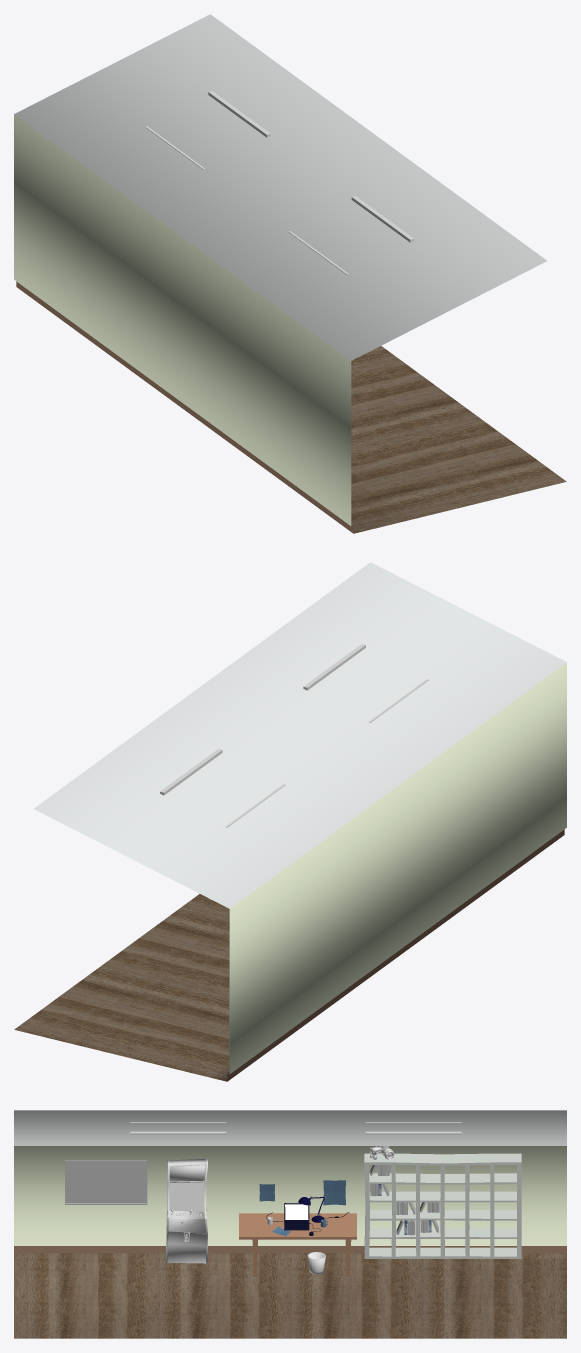
File: MENU.fbx
3 renders of one model, top to bottom at view 1: azimuth 30°, elevation 25°; view 2: azimuth 150°, elevation 25°; view 3: azimuth 270°, elevation 25°, orthographic. The views are drawn at different scales.
Parts seen in each view (by area): view 1: Plane.006; view 2: Plane.006; view 3: Plane.006, Plane.003, Plane.007, Cube.092, Cube.004, Plane.004, Plane.005, Cube.011, Cube.010, Cube.006, Cube.005, Cube.072 (+1 smaller).
Boxes of the visible parts, x1,y1,x2,y2 form: Plane.006: [14, 14, 566, 533]; Plane.006: [14, 562, 566, 1081]; Plane.006: [14, 1110, 566, 1338]; Plane.003: [364, 1153, 521, 1258]; Plane.007: [166, 1158, 207, 1264]; Cube.092: [65, 1160, 147, 1204]; Cube.004: [239, 1213, 356, 1276]; Plane.004: [323, 1180, 345, 1205]; Plane.005: [284, 1203, 309, 1221]; Cube.011: [396, 1202, 415, 1235]; Cube.010: [420, 1202, 439, 1232]; Cube.006: [365, 1131, 461, 1134]; Cube.005: [130, 1131, 226, 1134]; Cube.072: [370, 1165, 389, 1196].
Size of the model in its own units: 7349 by 7342 by 19887.
